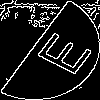E: (25, 25, 94, 78)
